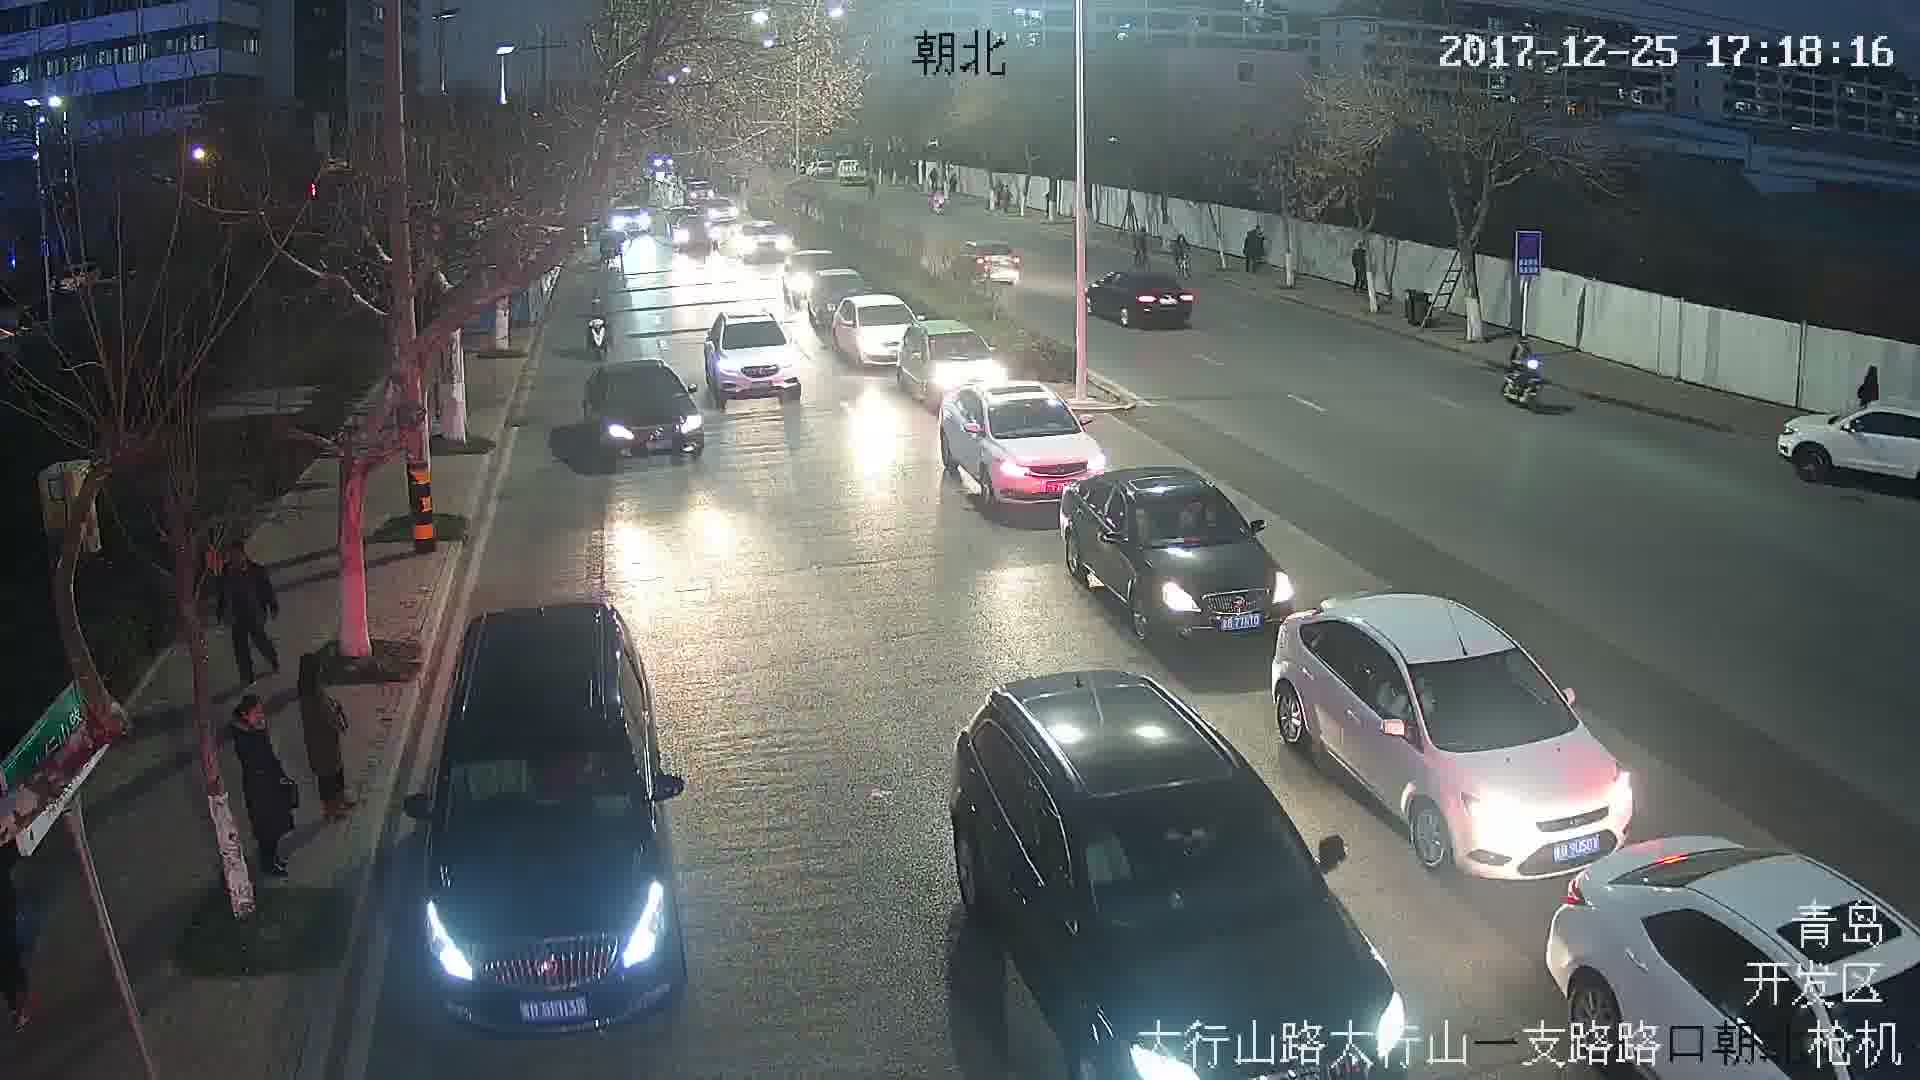car: (402, 603, 688, 1042), (1278, 595, 1635, 867), (1064, 467, 1299, 641), (941, 385, 1109, 505), (585, 357, 705, 464), (702, 307, 802, 410), (1084, 269, 1199, 331)
person: (234, 699, 300, 880), (293, 649, 360, 819), (223, 545, 282, 677), (1241, 228, 1262, 271)
